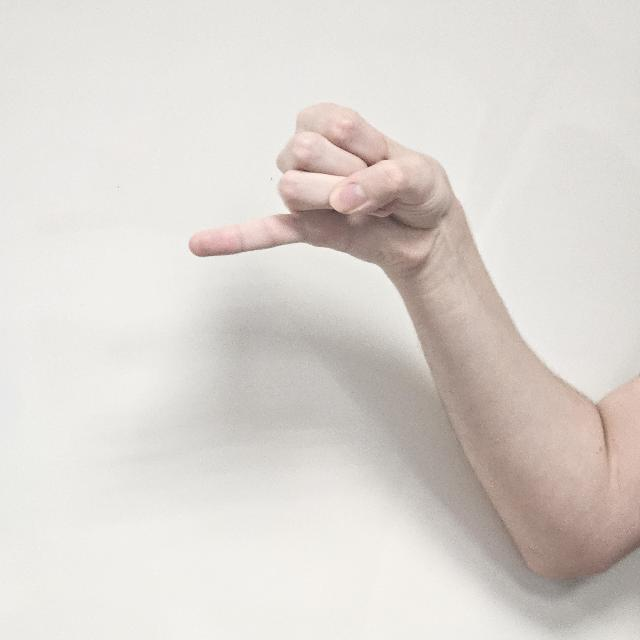Esquerda: (181, 80, 479, 318)
